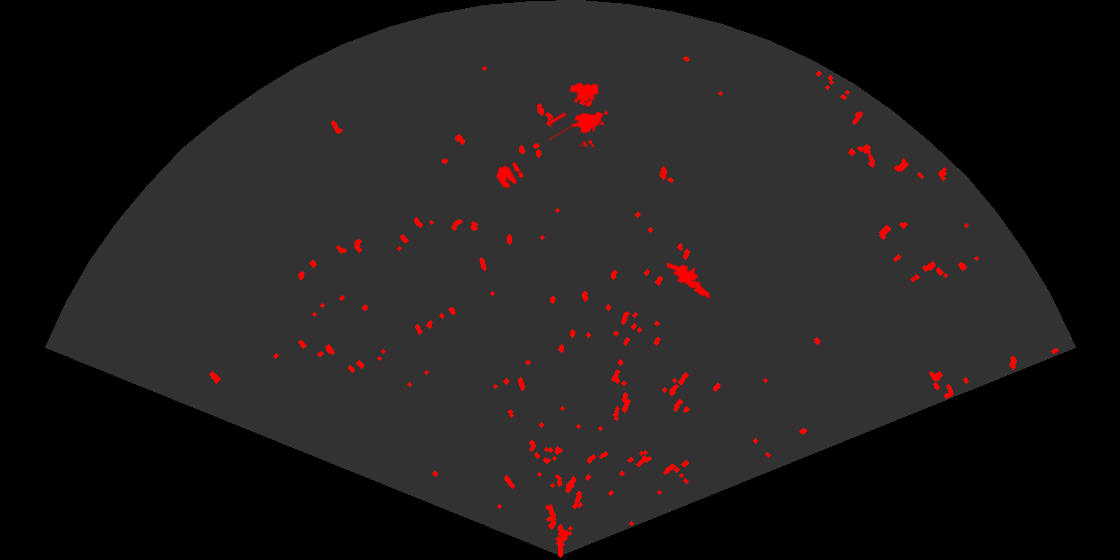ball: (495, 161, 525, 190)
cage: (549, 81, 610, 147)
frogman: (667, 261, 719, 301)
